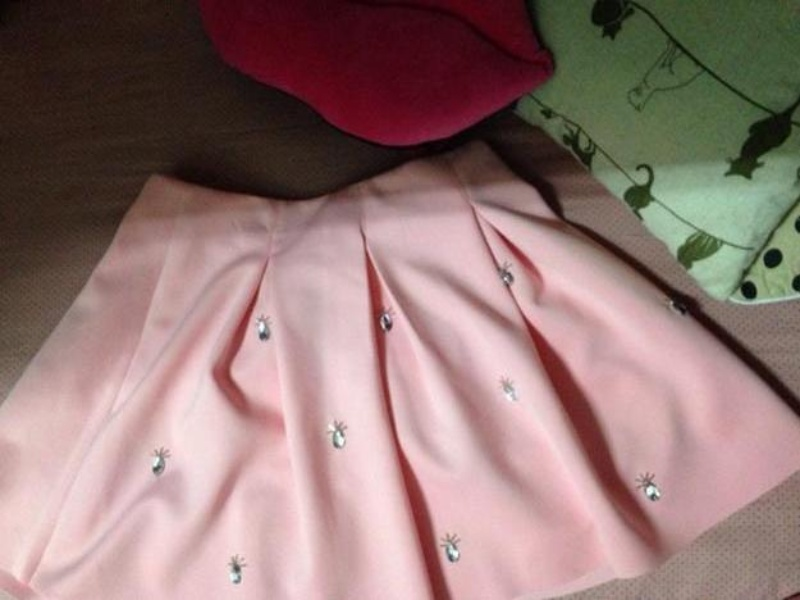skirt: (0, 140, 799, 599)
